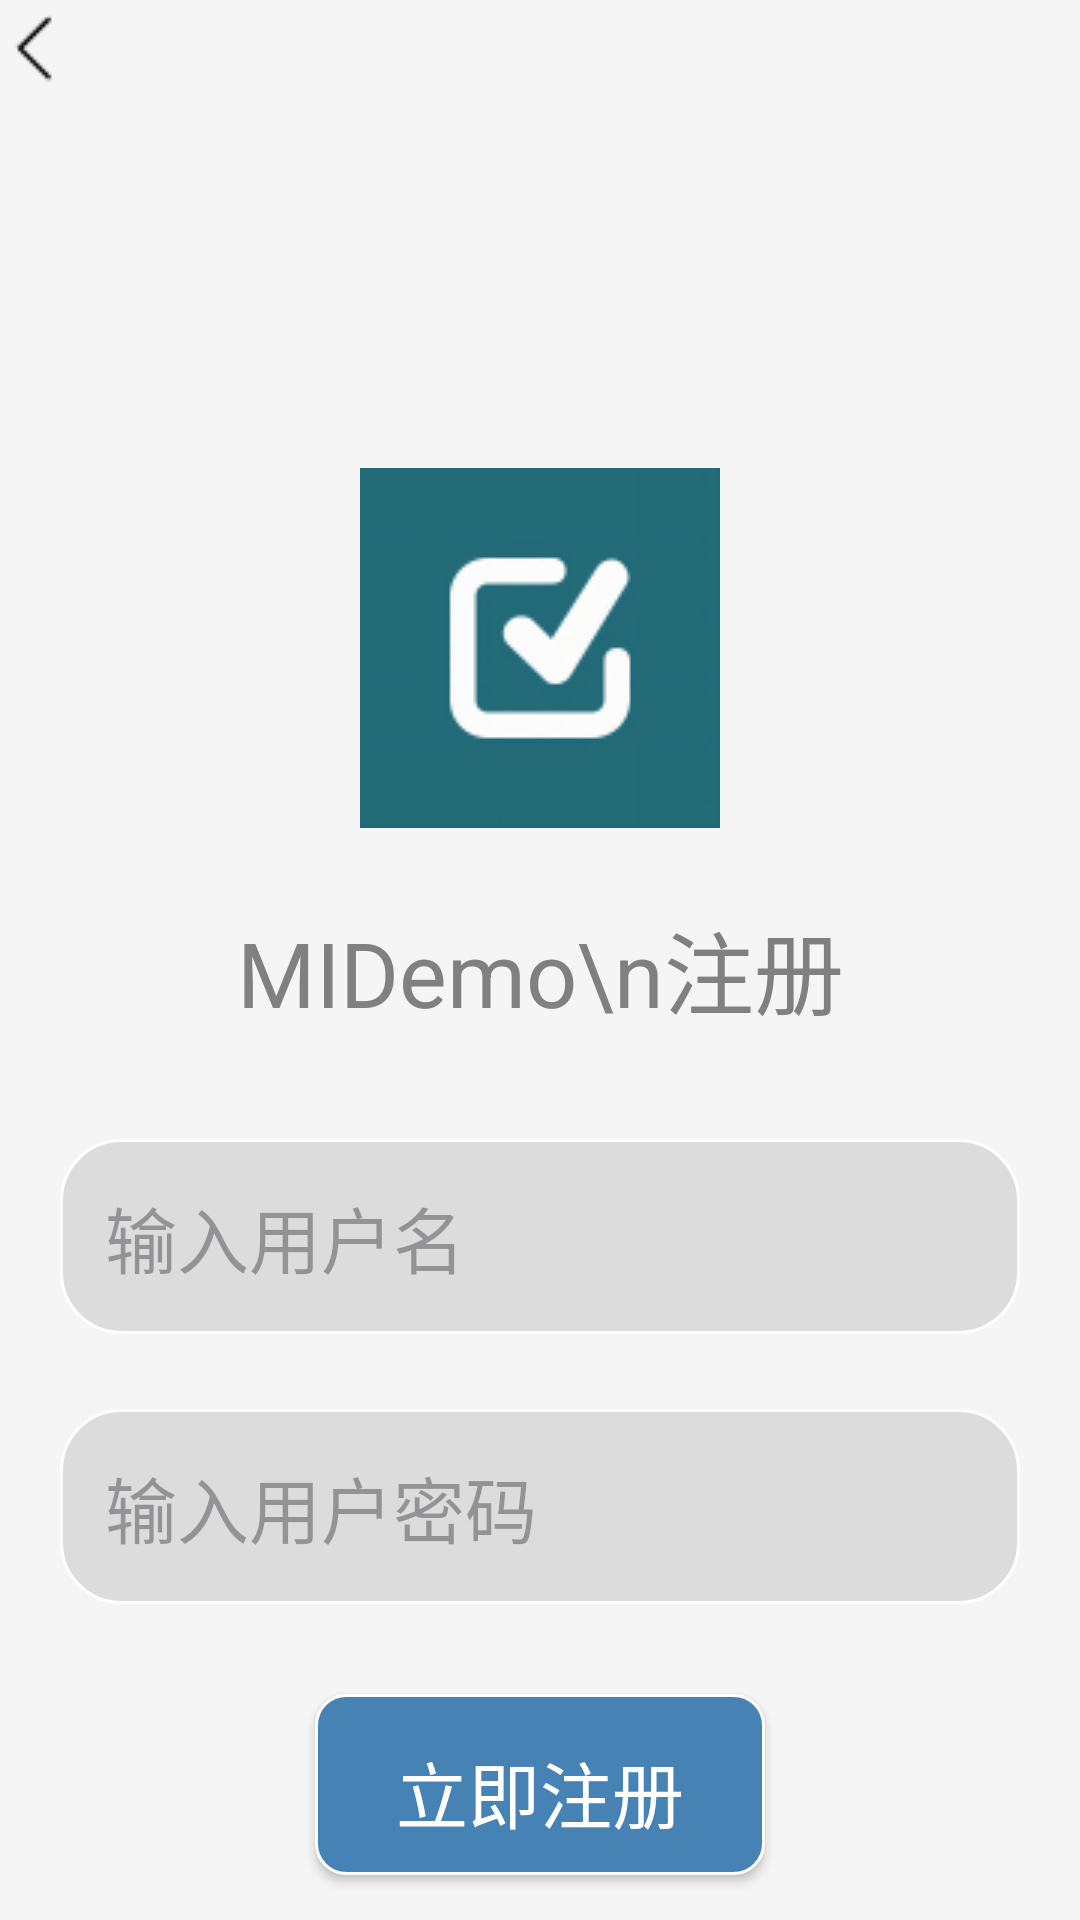

Named icons in this screenshot (1080px x 1920px) and their bounding boxes, [x1=x1, y1=y1, x2=x2, y2=y2]:
返回: [x1=16, y1=16, x2=52, y2=81]
